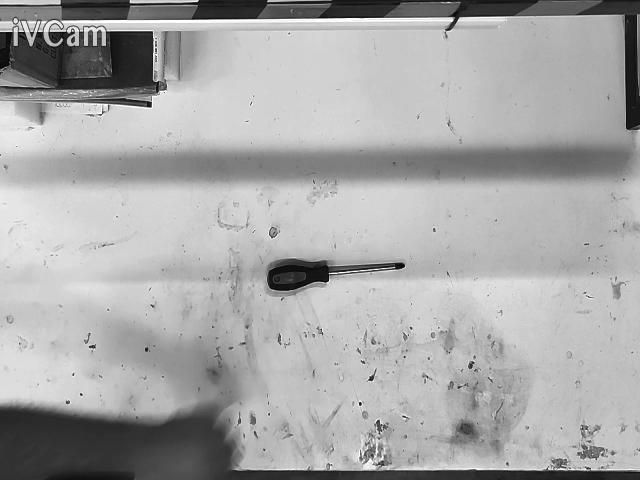Hand: (0, 408, 231, 479)
Screwdriver: (268, 262, 405, 292)
